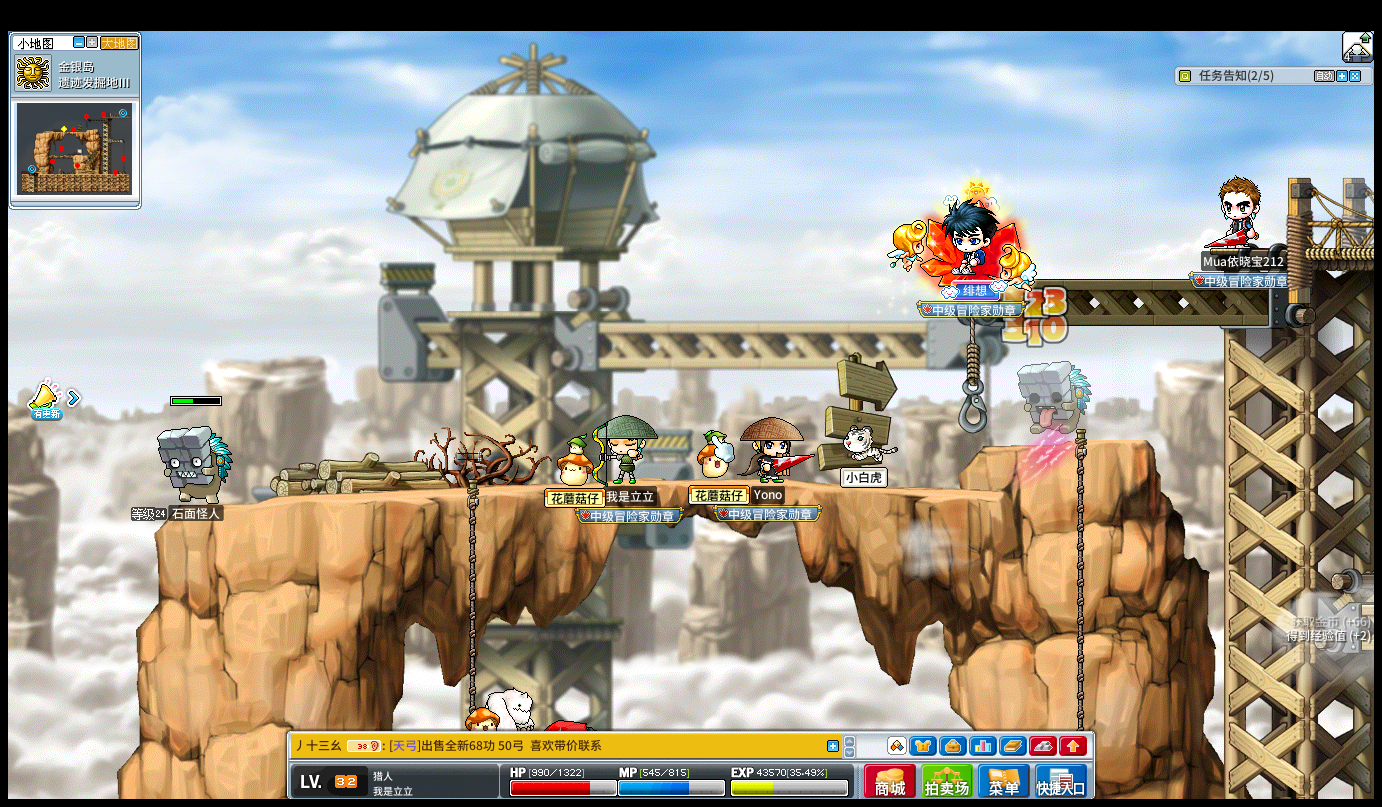floor: (179, 474, 1060, 502), (185, 476, 1037, 494), (1001, 434, 1153, 450)
monster: (1016, 359, 1092, 446), (155, 425, 233, 504)
rope: (1071, 431, 1087, 737), (466, 474, 478, 682)
